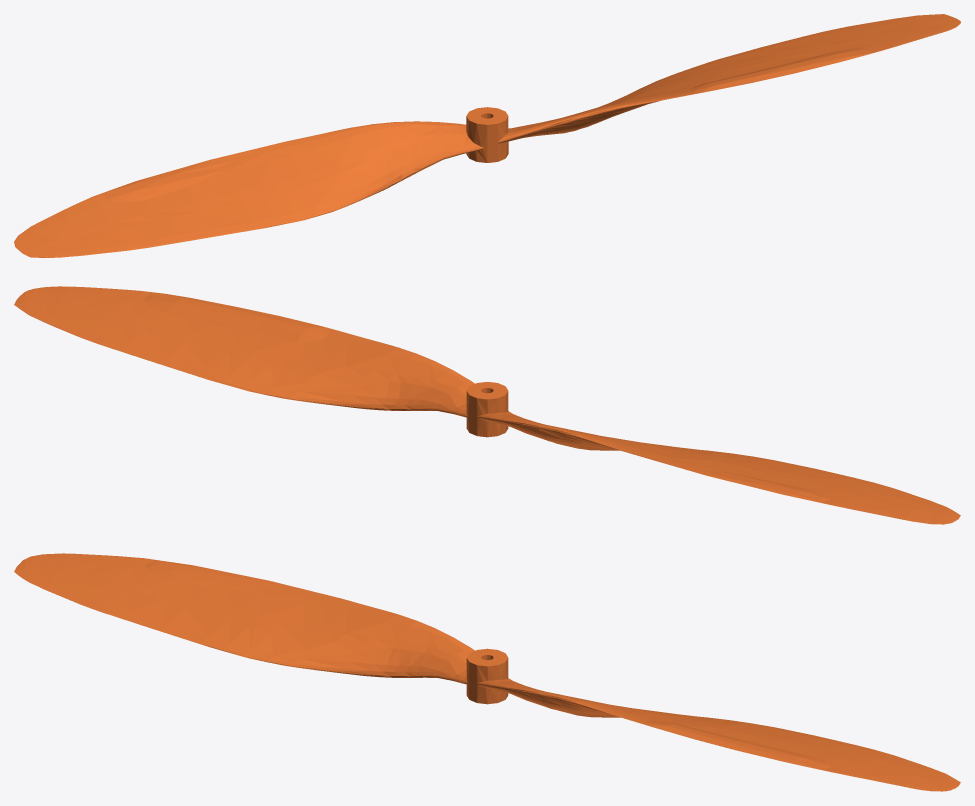
Rendered from rotor_puller__rotor_puller_visual.glb.
3 renders of one model, top to bottom at view 1: azimuth 30°, elevation 25°; view 2: azimuth 150°, elevation 25°; view 3: azimuth 330°, elevation 25°, orthographic.
Visible parts, largest first — view 1: EPP1045_A; view 2: EPP1045_A; view 3: EPP1045_A.
Part boxes in pixels (x1=…): EPP1045_A: x1=14, y1=14, x2=960, y2=257; EPP1045_A: x1=14, y1=286, x2=960, y2=524; EPP1045_A: x1=14, y1=553, x2=960, y2=791.
Size of the model in its own units: 0.2062 by 0.00825 by 0.0224.
